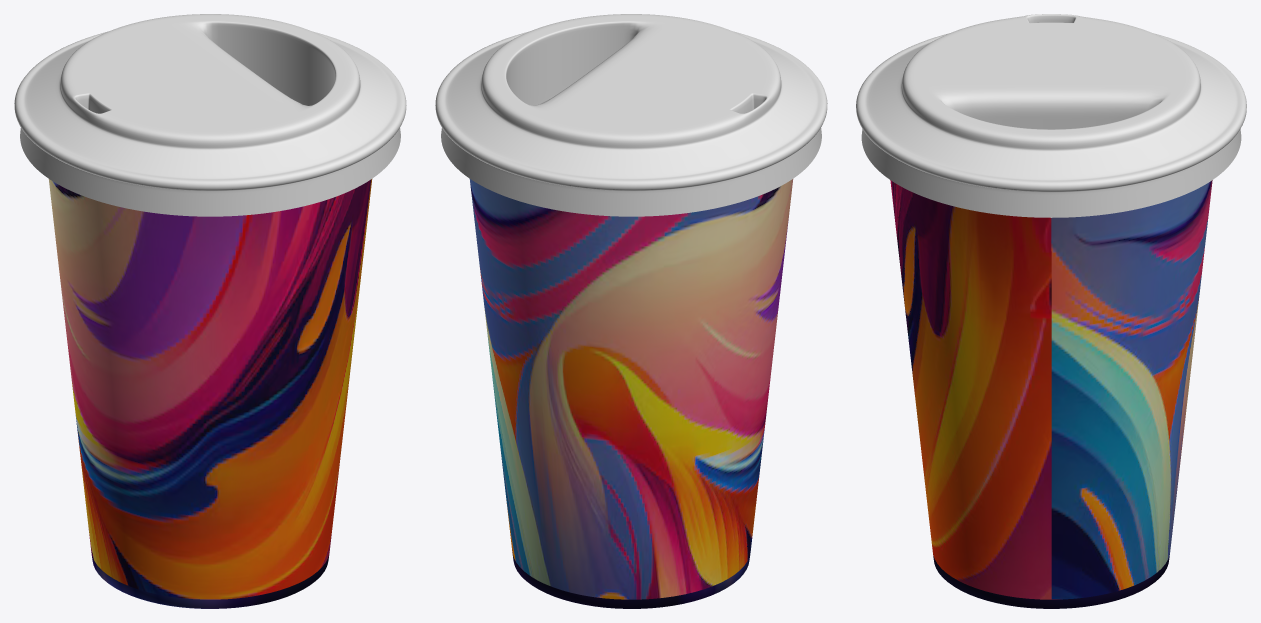
File: cup.glb
3 views of the same model, side by side, from view 1: azimuth 30°, elevation 25°; view 2: azimuth 150°, elevation 25°; view 3: azimuth 270°, elevation 25° (orthographic).
Visible parts, largest first — view 1: Cylinder, Circle; view 2: Cylinder, Circle; view 3: Cylinder, Circle.
Boxes of the visible parts, x1,y1,x2,y2 form: Cylinder: [48, 179, 372, 608]; Circle: [14, 14, 406, 216]; Cylinder: [469, 179, 793, 608]; Circle: [435, 14, 827, 216]; Cylinder: [890, 180, 1212, 608]; Circle: [856, 14, 1246, 217].
Size of the model in its own units: 2.3 by 3.13 by 2.3.
Materials: 2 (1 with a texture image).
